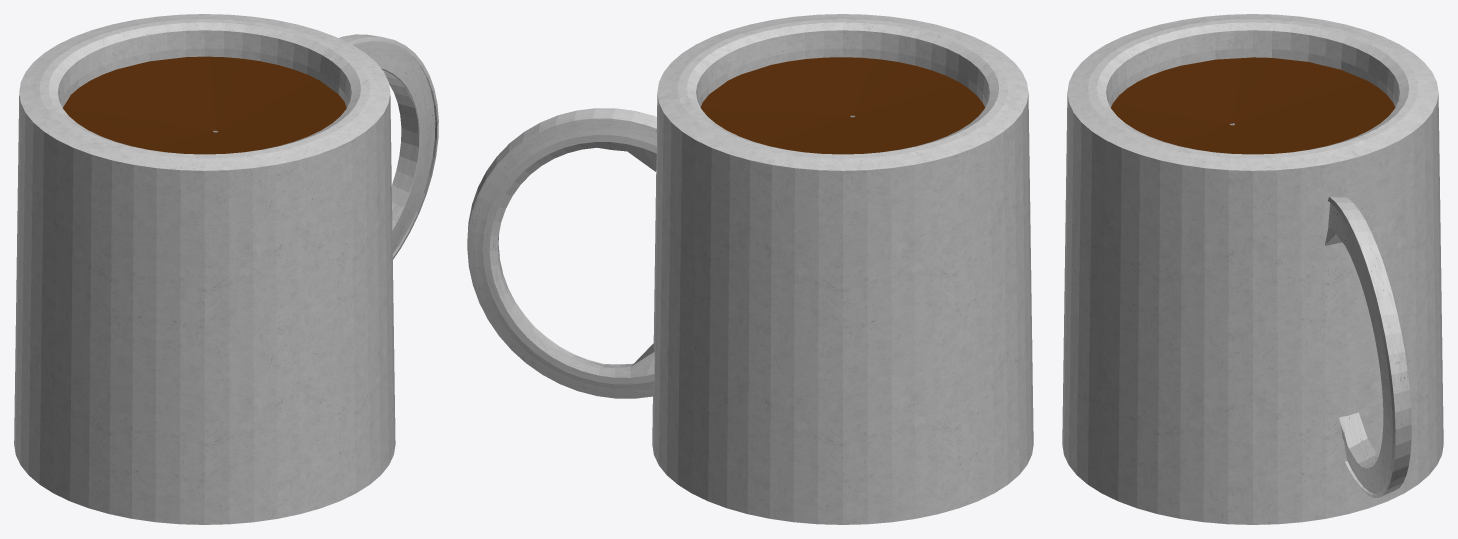
File: tasse2.glb
The picture shows the model from 3 angles, left to right: view 1: azimuth 30°, elevation 25°; view 2: azimuth 150°, elevation 25°; view 3: azimuth 270°, elevation 25°; orthographic projection.
Parts seen in each view (by area): view 1: Torus, Circle, Torus.002; view 2: Torus, Circle, Torus.002; view 3: Torus, Circle, Torus.002.
Boxes of the visible parts, x1=… form: Torus: x1=14, y1=14, x2=395, y2=524; Circle: x1=63, y1=56, x2=346, y2=154; Torus.002: x1=339, y1=34, x2=438, y2=259; Torus: x1=652, y1=14, x2=1033, y2=524; Circle: x1=700, y1=57, x2=984, y2=154; Torus.002: x1=467, y1=108, x2=656, y2=398; Torus: x1=1062, y1=14, x2=1443, y2=524; Circle: x1=1111, y1=57, x2=1395, y2=154; Torus.002: x1=1325, y1=197, x2=1411, y2=497.
Bounding box in the file's own units: 3.21 × 2.36 × 2.25.
Materials: 3 (2 with a texture image).
